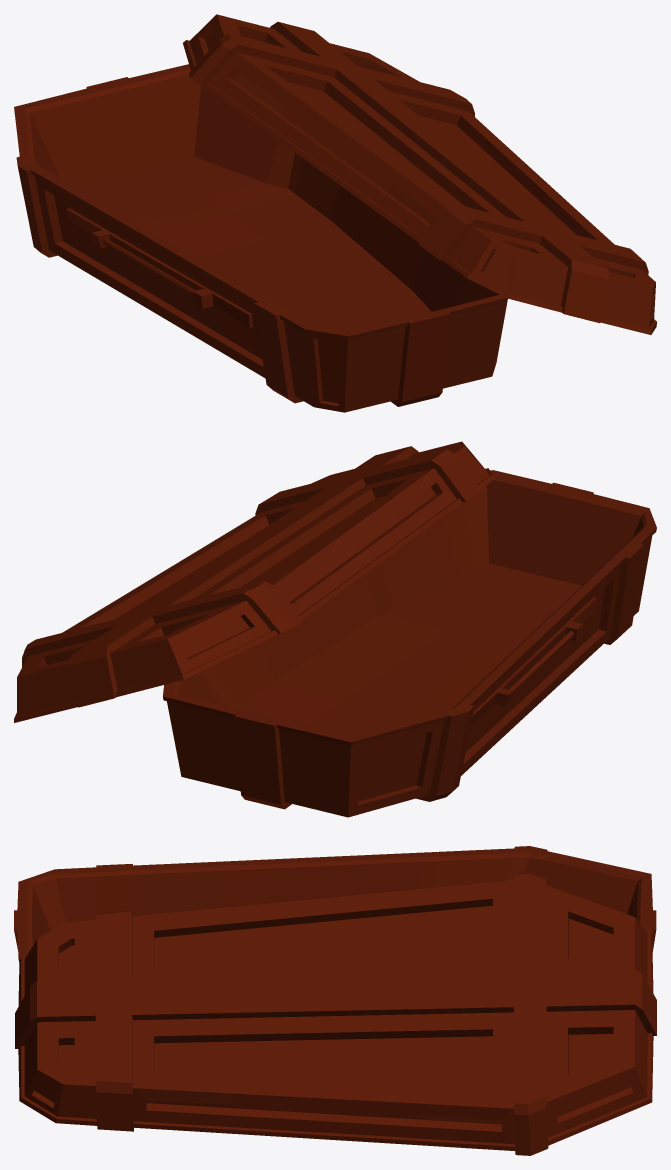
File: Casket_open.fbx
3 views of the same model, one above another, from view 1: azimuth 30°, elevation 25°; view 2: azimuth 150°, elevation 25°; view 3: azimuth 270°, elevation 25° (orthographic).
Visible parts, largest first — view 1: Casket_open_lid; view 2: Casket_open_lid; view 3: Casket_open_lid.
Part boxes in pixels (left/top/right/bottom): Casket_open_lid: left=14, top=14, right=656, bottom=412; Casket_open_lid: left=14, top=441, right=656, bottom=817; Casket_open_lid: left=14, top=846, right=656, bottom=1155.
Size of the model in its own units: 130 by 46.36 by 161.
